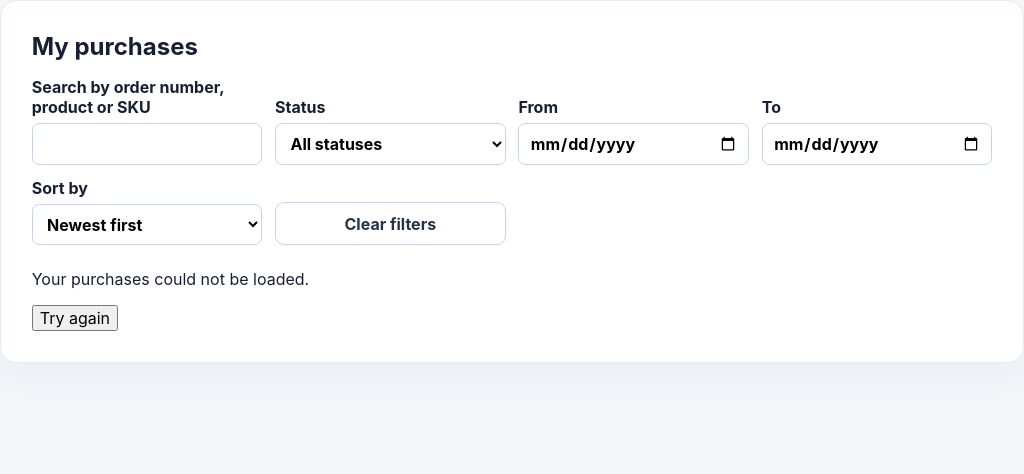
Test: my purchases page › offers retry after an error
The image size is (1024, 474).
Click the button "Try again": (75, 318) [32, 306, 118, 332]
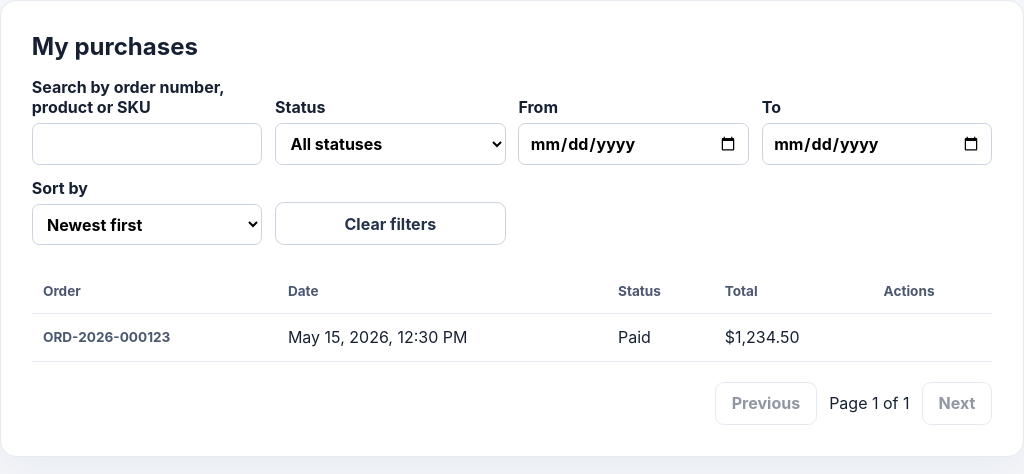
Now the link "ORD-2026-000123" is shown, box [43, 329, 170, 345]
